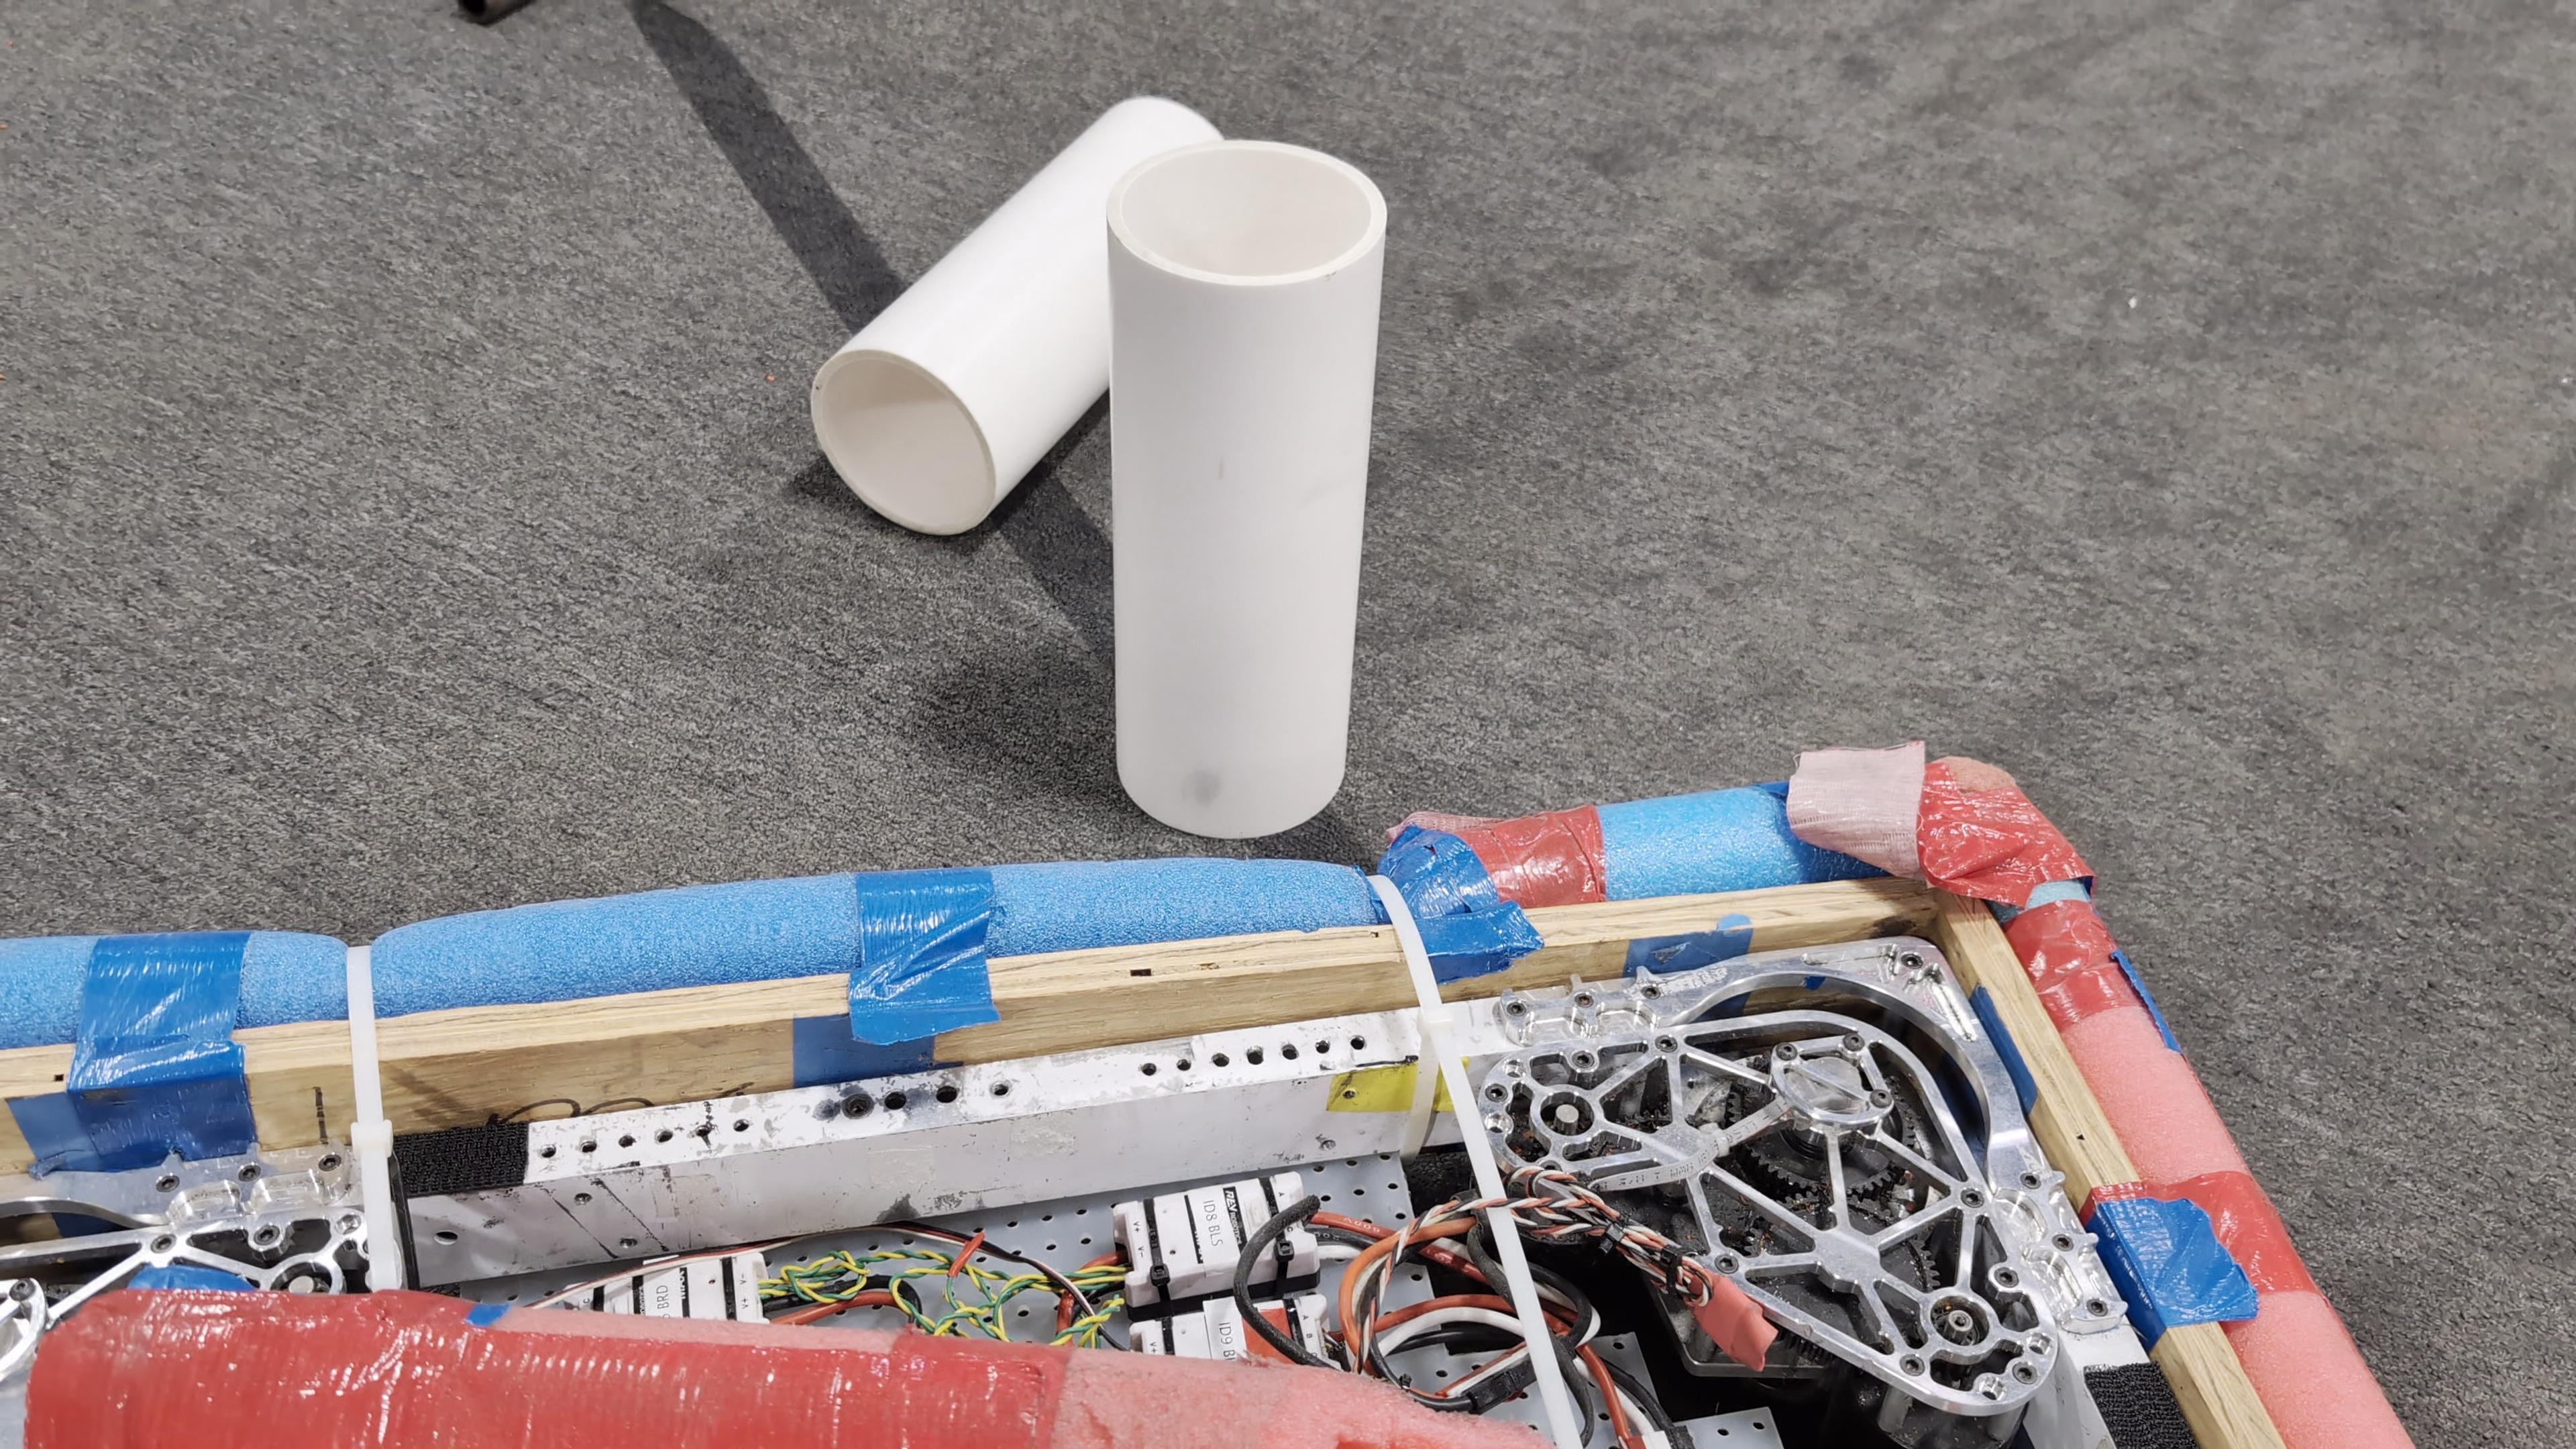coral: (1104, 110, 1394, 842), (809, 88, 1115, 536)
